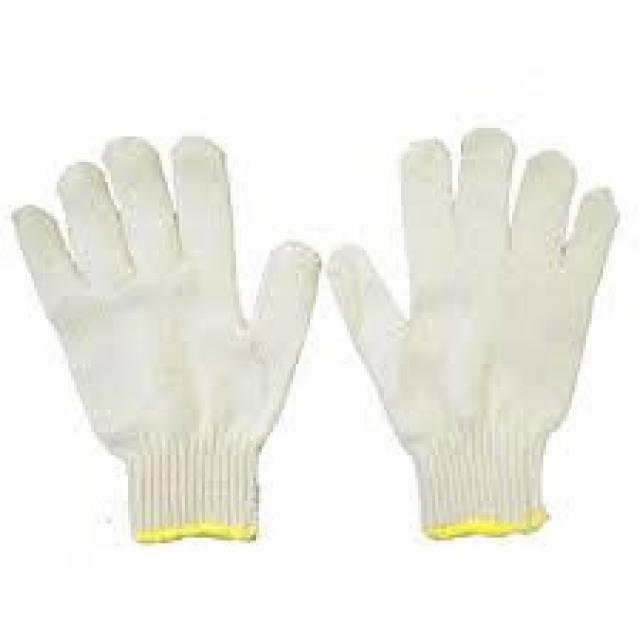Clothes -Biodegradable-: (14, 131, 325, 545), (323, 125, 618, 537)
